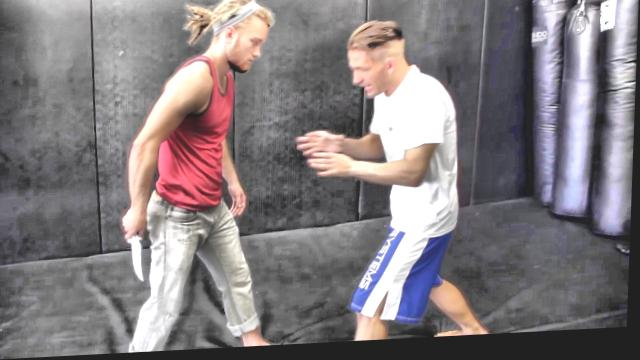knife: (115, 211, 150, 288)
